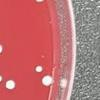white: (38, 73, 55, 88), (3, 78, 17, 92), (32, 64, 44, 74), (0, 41, 5, 61), (28, 0, 48, 5), (0, 72, 3, 84)
